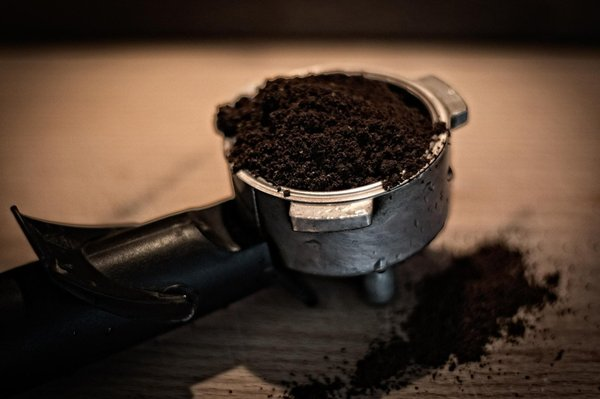sushi: (216, 70, 468, 300)
